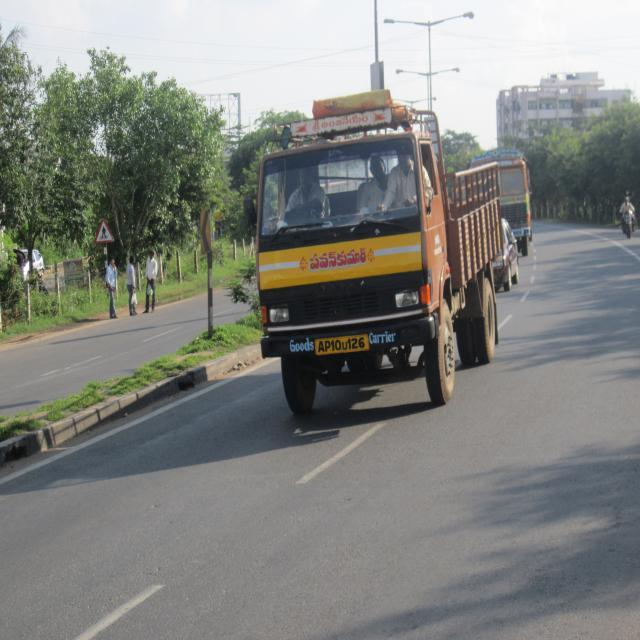truck_front: (250, 90, 508, 409)
